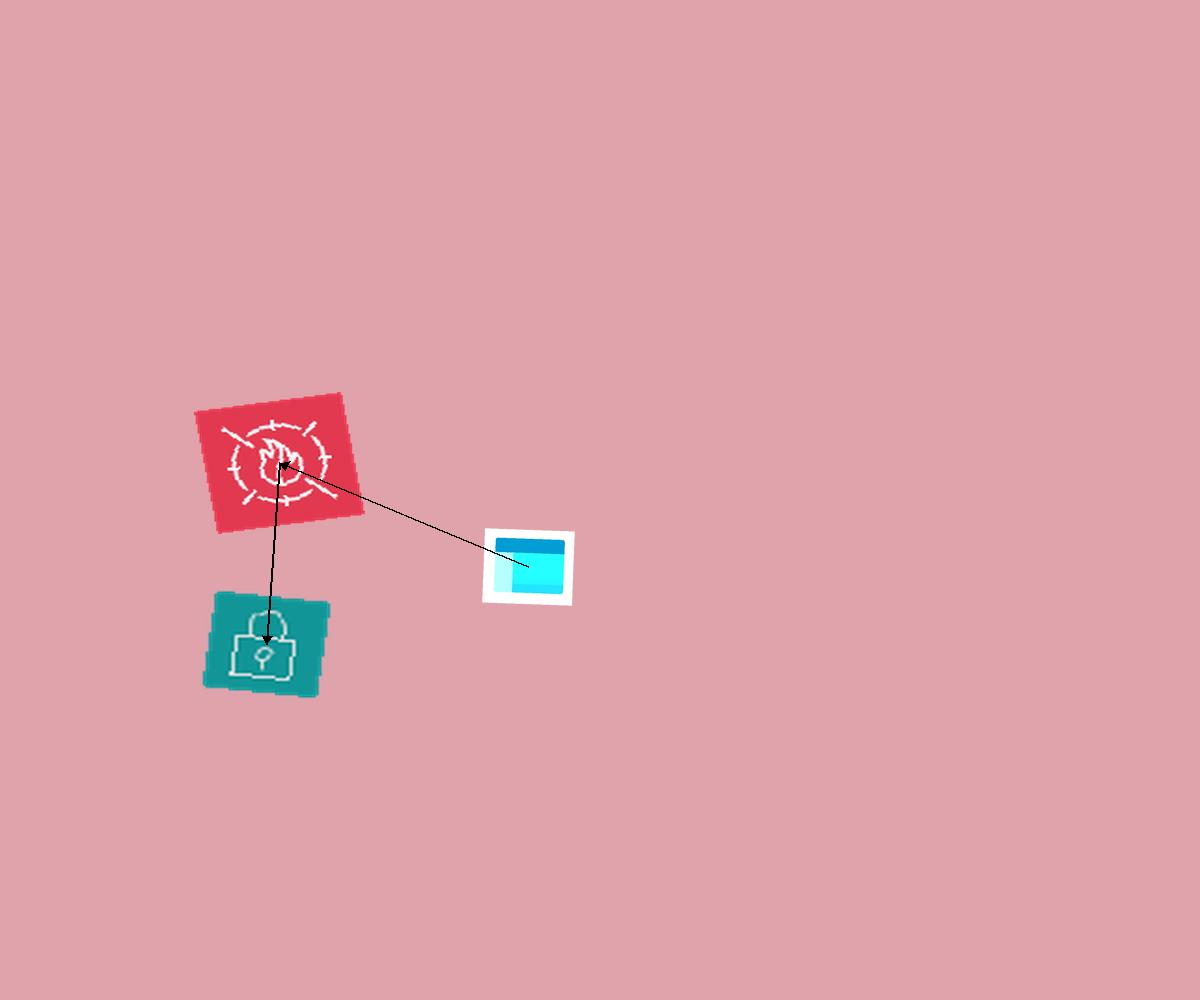AWS-Private-subnet: (200, 589, 333, 700)
AWS-WAF: (194, 392, 365, 534)
Azure_management-portal: (482, 528, 575, 606)
